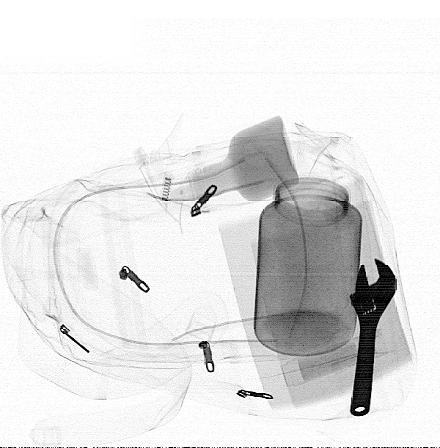Wrench: (347, 256, 398, 420)
